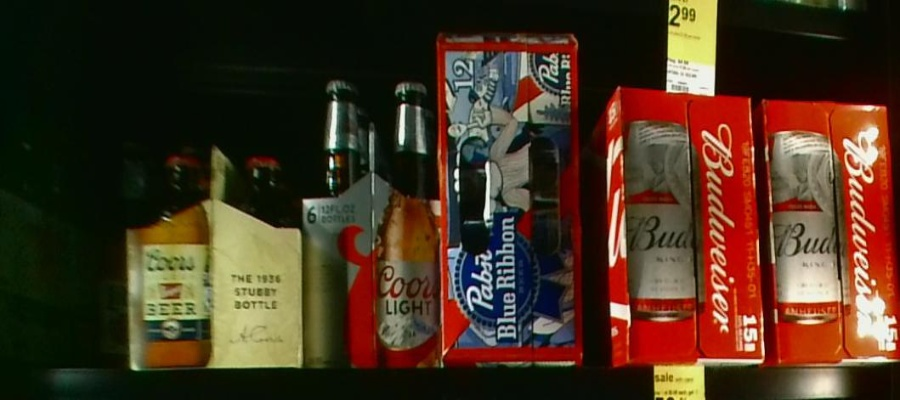bottle: (436, 33, 582, 372), (589, 88, 762, 365), (304, 76, 439, 369), (127, 146, 303, 367), (760, 98, 900, 362), (95, 211, 122, 365)
